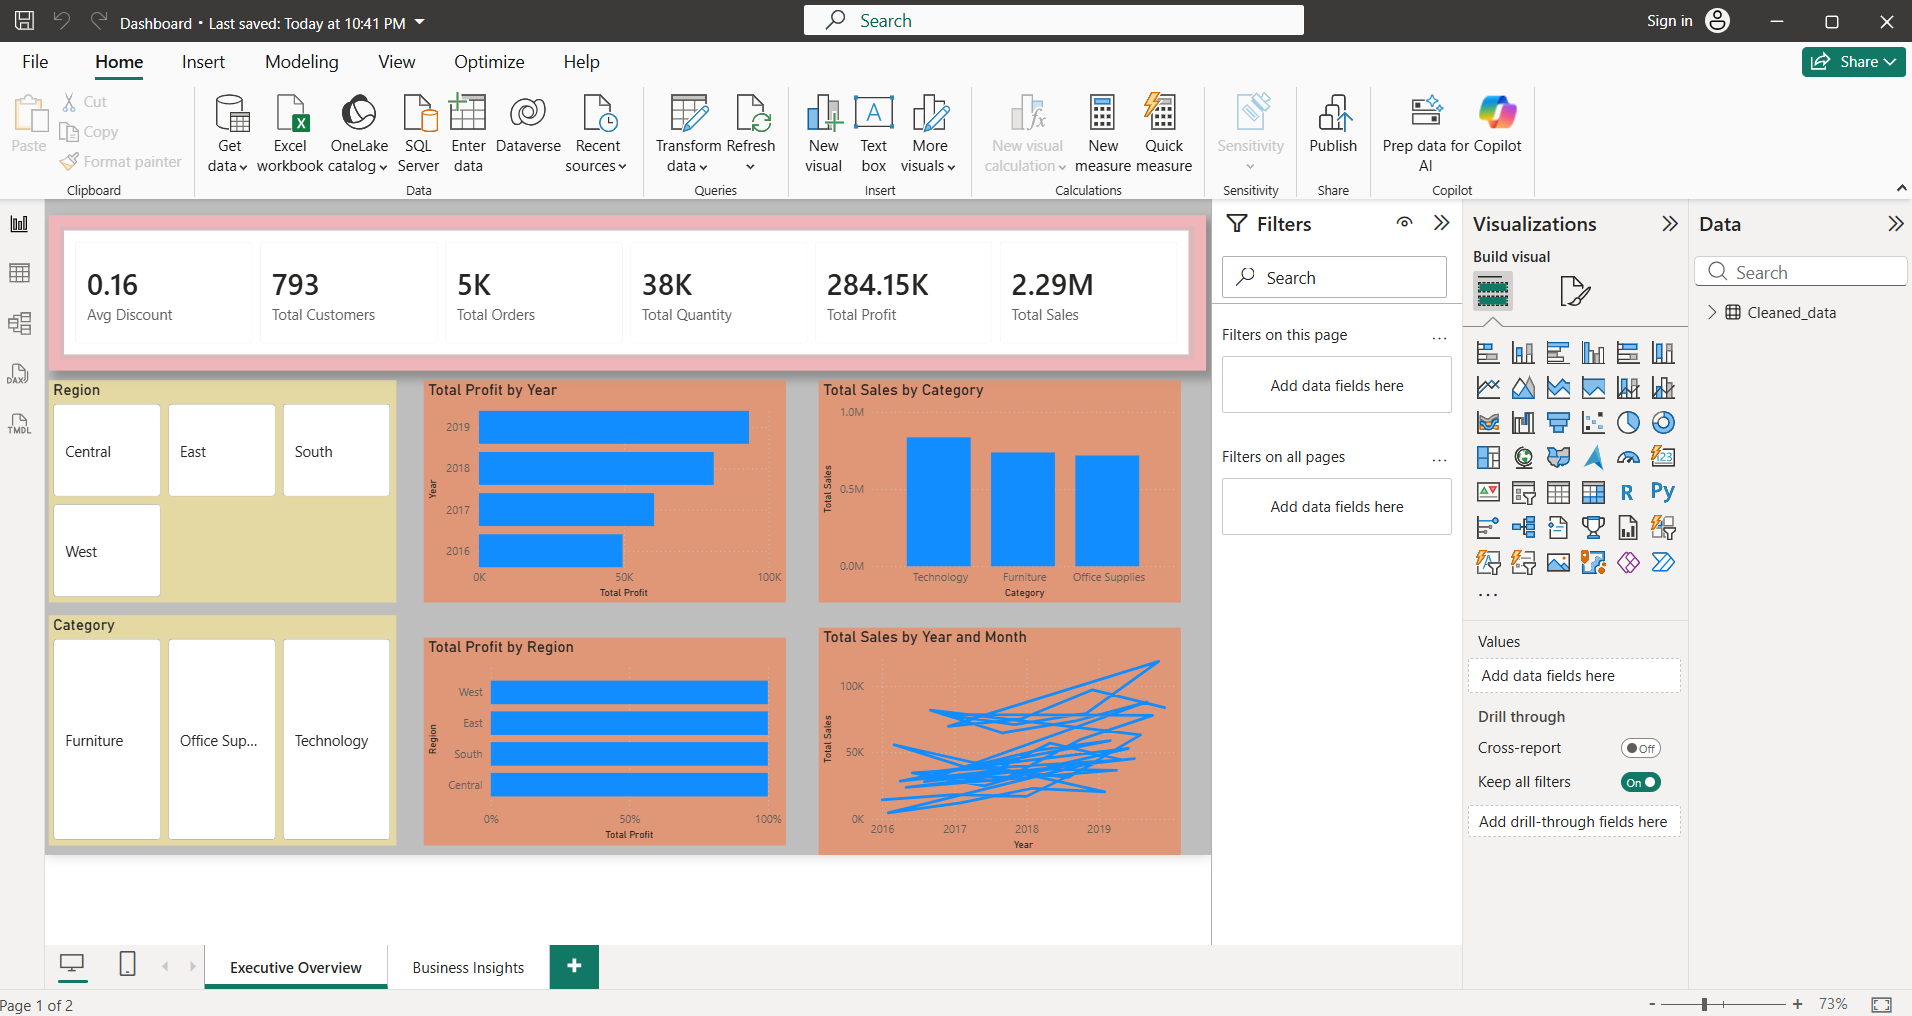

The page's visual inventory and layout, read from the dashboard file:
{"tool":"powerbi","page":{"name":"Executive Overview","canvas":[1280,720],"ordinal":0},"visuals":[{"type":"cardVisual","fields":{"Data":["Cleaned_data.Avg Discount","Cleaned_data.Total Customers","Cleaned_data.Total Orders","Cleaned_data.Total Quantity","Cleaned_data.Total Profit","Cleaned_data.Total Sales"]},"box":[4.1,17.8,1270.7,170.2],"z":0},{"type":"lineChart","fields":{"Category":["Cleaned_data.Order Date.Variation.Date Hierarchy.Year","Cleaned_data.Order Date.Variation.Date Hierarchy.Month"],"Y":["Cleaned_data.Total Sales"]},"box":[849.4,470.7,397.9,249.7],"z":1000},{"type":"barChart","fields":{"Category":["Cleaned_data.Order Date.Variation.Date Hierarchy.Year","Cleaned_data.Order Date.Variation.Date Hierarchy.Month"],"Y":["Cleaned_data.Total Profit"]},"box":[415.8,199,397.9,244.3],"z":2000},{"type":"clusteredColumnChart","fields":{"Category":["Cleaned_data.Category"],"Y":["Cleaned_data.Total Sales"]},"box":[849.4,199,397.9,244.3],"z":3000},{"type":"hundredPercentStackedBarChart","fields":{"Category":["Cleaned_data.Region"],"Y":["Cleaned_data.Total Profit"]},"box":[415.8,481.6,397.9,227.8],"z":4000},{"type":"advancedSlicerVisual","fields":{"Values":["Cleaned_data.Region"]},"box":[4.1,199,381.5,244.3],"z":5000},{"type":"advancedSlicerVisual","fields":{"Values":["Cleaned_data.Category"]},"box":[4.1,456.9,381.5,252.5],"z":6000}]}

Visuals, with their boxes on the page's 1280x720 design canvas (x1, y1, x2, y2). These are canvas units, not pixel positions in the 1912x1016 screenshot, which may show the page scaled, cropped or inside an application window:
cardVisual - Cleaned_data.Avg Discount x Cleaned_data.Total Customers: x1=4, y1=18, x2=1275, y2=188
lineChart - Cleaned_data.Order Date.Variation.Date Hierarchy.Year x Cleaned_data.Order Date.Variation.Date Hierarchy.Month: x1=849, y1=471, x2=1247, y2=720
barChart - Cleaned_data.Order Date.Variation.Date Hierarchy.Year x Cleaned_data.Order Date.Variation.Date Hierarchy.Month: x1=416, y1=199, x2=814, y2=443
clusteredColumnChart - Cleaned_data.Category x Cleaned_data.Total Sales: x1=849, y1=199, x2=1247, y2=443
hundredPercentStackedBarChart - Cleaned_data.Region x Cleaned_data.Total Profit: x1=416, y1=482, x2=814, y2=709
advancedSlicerVisual - Cleaned_data.Region: x1=4, y1=199, x2=386, y2=443
advancedSlicerVisual - Cleaned_data.Category: x1=4, y1=457, x2=386, y2=709
